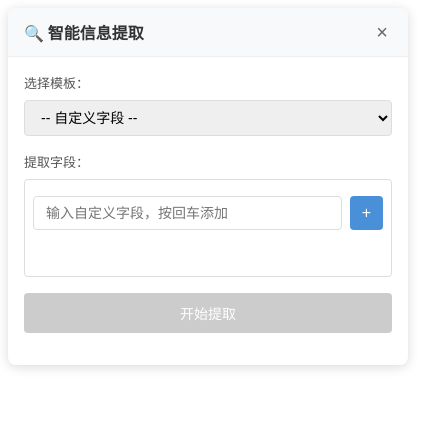
Test: SmartExtractPanel › Error Handling › should display network error message
Type "测试" into the field with id "custom-field-input" at (187, 213), box [33,196,342,230]
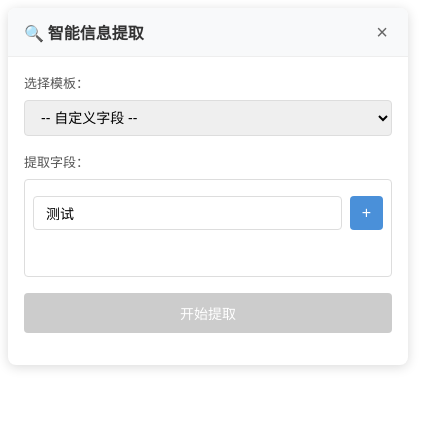
Click the button with id "add-field-btn" at (366, 213), box [350,196,383,230]
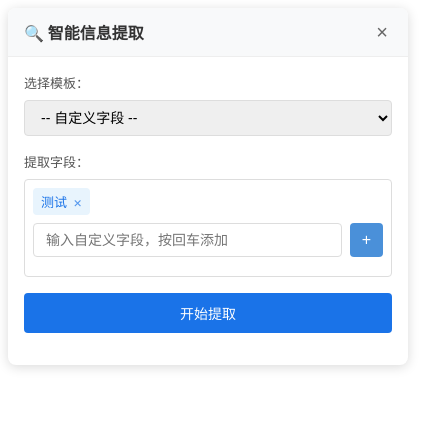
Click the button with id "extract-btn" at (208, 313), box [24,293,392,333]
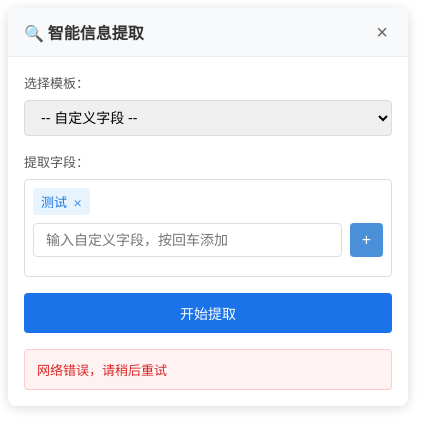
Result: the text with id "error-message" shows "网络错误" at [37,362,167,378]
